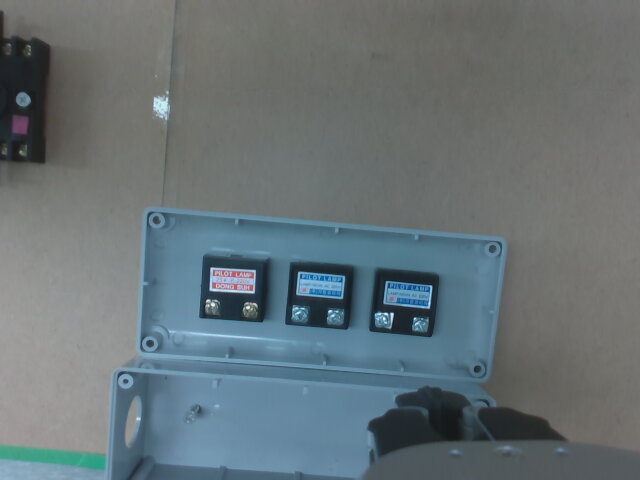L1(1): (205, 299, 220, 315)
L1(2): (242, 302, 257, 318)
L2(1): (291, 304, 309, 322)
L2(2): (327, 309, 343, 325)
L3(1): (376, 311, 392, 328)
L3(2): (412, 316, 428, 332)
